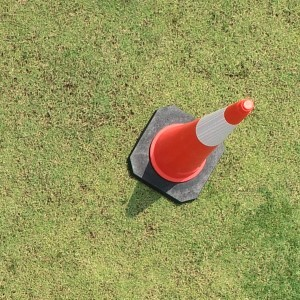traffic cone: (130, 98, 254, 202)
